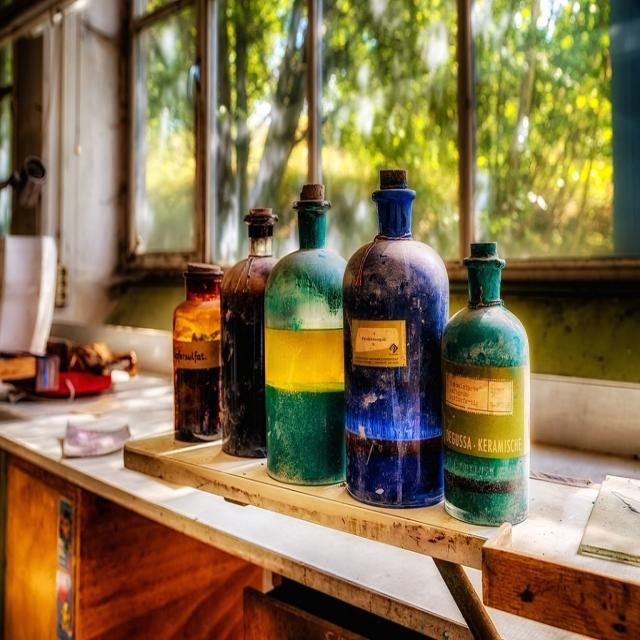Metal: (143, 148, 552, 532)
